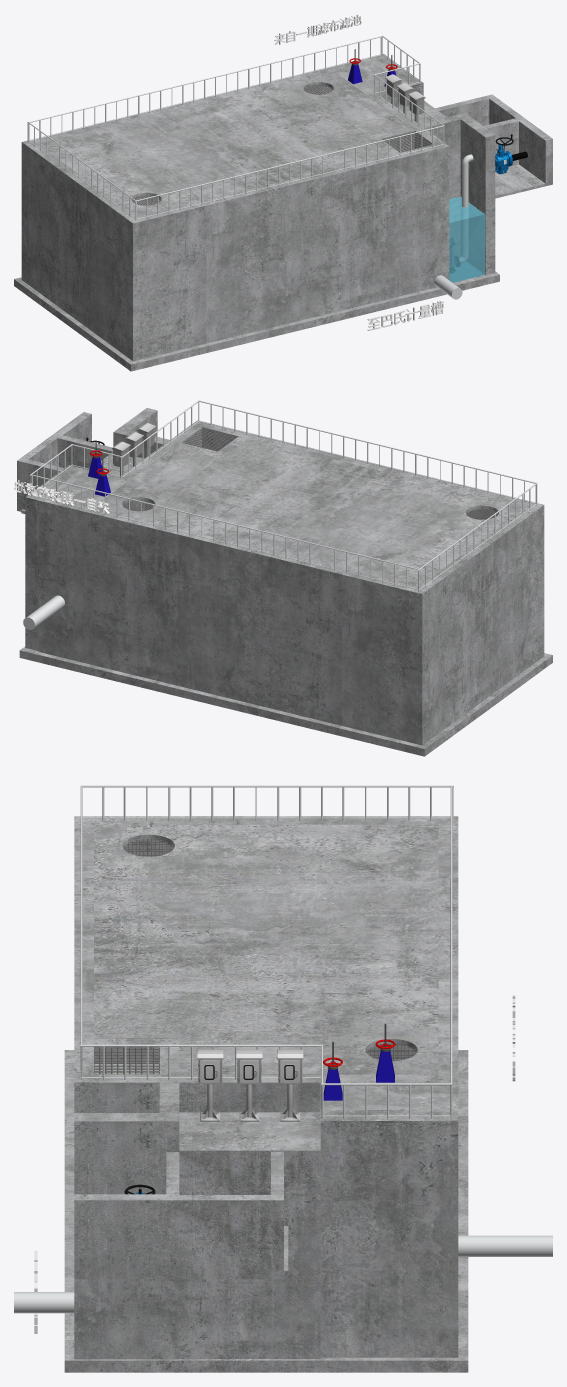
Rendered from 接触消毒池.max1024.glb.
3 renders of one model, top to bottom at view 1: azimuth 30°, elevation 25°; view 2: azimuth 150°, elevation 25°; view 3: azimuth 270°, elevation 25°, orthographic. The views are drawn at different scales.
Parts seen in each view (by area): view 1: Rectangle018, Circle002, Rectangle005, Rectangle014, Rectangle017, Box002, Rectangle016, Rectangle027, Rectangle050, Rectangle002, Rectangle053, Rectangle031 (+17 smaller); view 2: Rectangle027, Circle002, Rectangle005, Rectangle014, Rectangle004, Rectangle018, Rectangle002, Box003, Rectangle052, Rectangle029, Text003, 对象231 (+14 smaller); view 3: Circle002, Box003, Box001, Rectangle017, Rectangle014, Rectangle021, Rectangle029, Rectangle002, Rectangle018, Rectangle027, Rectangle005, Rectangle016 (+9 smaller).
Part boxes in pixels (x1,y1,x2,y2): Rectangle018: (127,142,449,361); Circle002: (37,71,408,216); Rectangle005: (21,142,135,356); Rectangle014: (14,271,499,371); Rectangle017: (460,117,495,275); Box002: (449,196,485,282); Rectangle016: (366,113,470,256); Rectangle027: (22,67,333,145); Rectangle050: (515,118,551,185); Rectangle002: (329,65,442,148); Rectangle053: (492,164,545,198); Rectangle031: (435,96,489,125); Rectangle027: (86,507,428,745); Circle002: (94,439,526,586); Rectangle005: (411,507,538,744); Rectangle014: (19,646,552,756); Rectangle004: (39,496,80,660); Rectangle018: (192,420,544,660); Rectangle002: (75,425,201,663); Box003: (25,465,82,651); Rectangle052: (58,435,112,469); Rectangle029: (17,436,57,511); Text003: (14,480,109,513); 对象231: (177,510,297,561); Circle002: (94,824,438,1074); Box003: (320,1110,458,1357); Box001: (179,1112,320,1358); Rectangle017: (74,1113,159,1359); Rectangle014: (64,1050,468,1372); Rectangle021: (74,1195,179,1279); Rectangle029: (179,1195,283,1279); Rectangle002: (94,1074,458,1112); Rectangle018: (74,816,93,1112); Rectangle027: (438,816,458,1074); Rectangle005: (94,816,438,1062); Rectangle016: (159,1038,179,1359).
Size of the model in its own units: 12.89 by 5.41 by 8.21.
13 materials, 4 textured.
